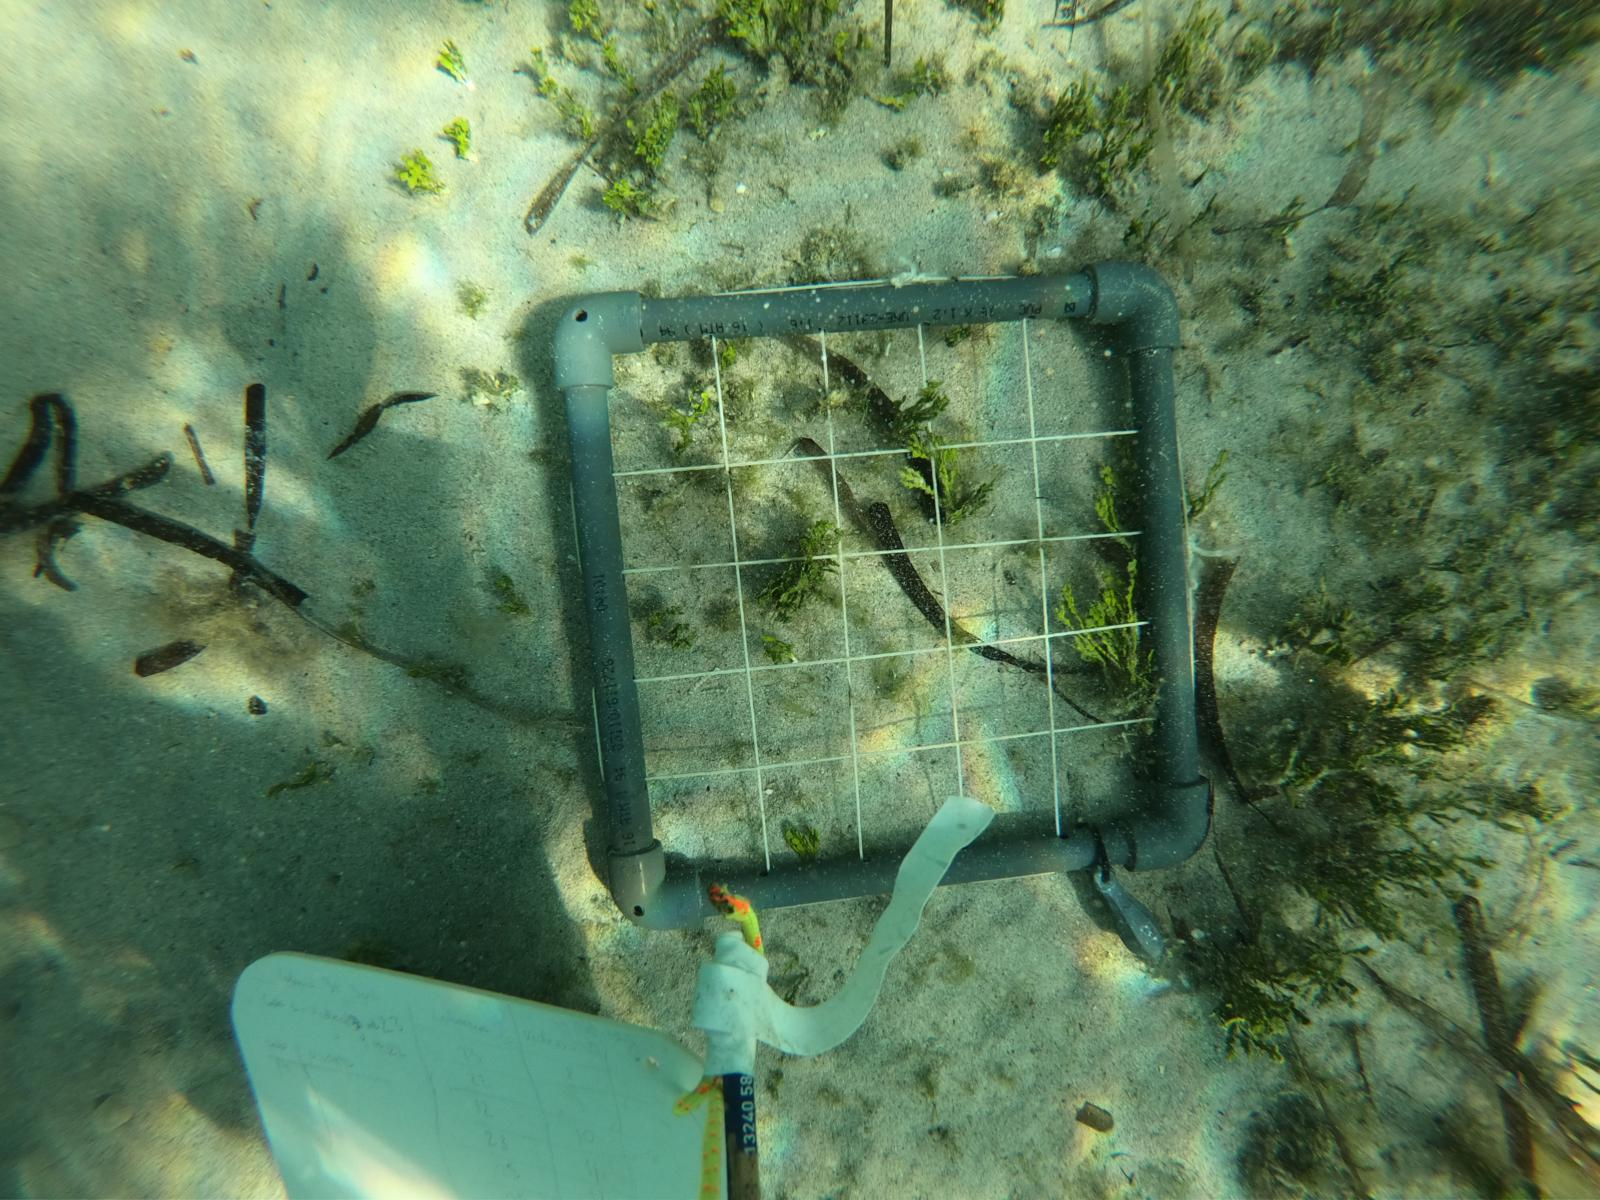halimeda: (1271, 809, 1470, 921), (1051, 580, 1155, 713), (1272, 703, 1411, 797), (1212, 950, 1288, 1063), (1266, 586, 1358, 668), (772, 521, 843, 615), (903, 432, 976, 519), (1082, 95, 1145, 189), (1087, 458, 1136, 555), (616, 103, 682, 171), (658, 391, 716, 463), (682, 69, 740, 139), (889, 378, 952, 435), (1043, 88, 1083, 175), (1151, 26, 1204, 91), (724, 4, 779, 63), (1189, 445, 1227, 526), (603, 180, 663, 219), (784, 818, 824, 862), (398, 155, 438, 192), (562, 93, 590, 137), (441, 37, 465, 84), (445, 121, 469, 160)
